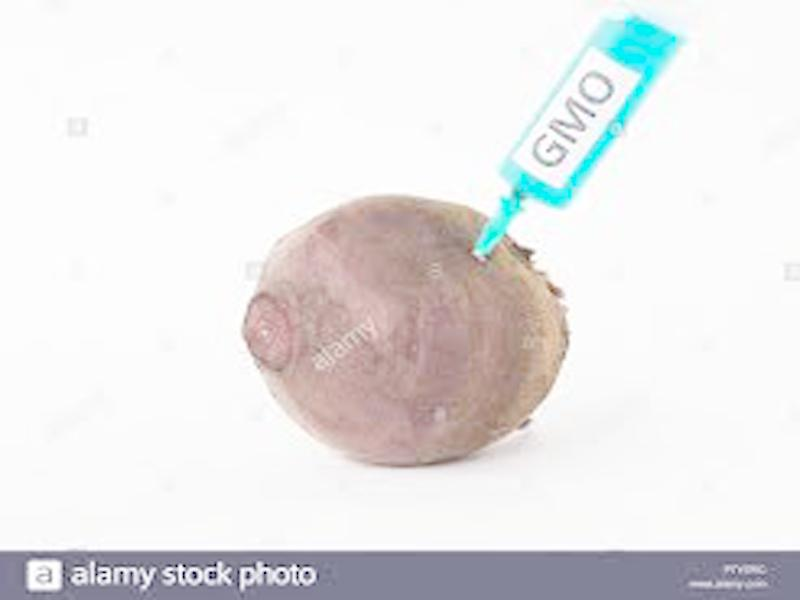Beet: (244, 193, 563, 468)
